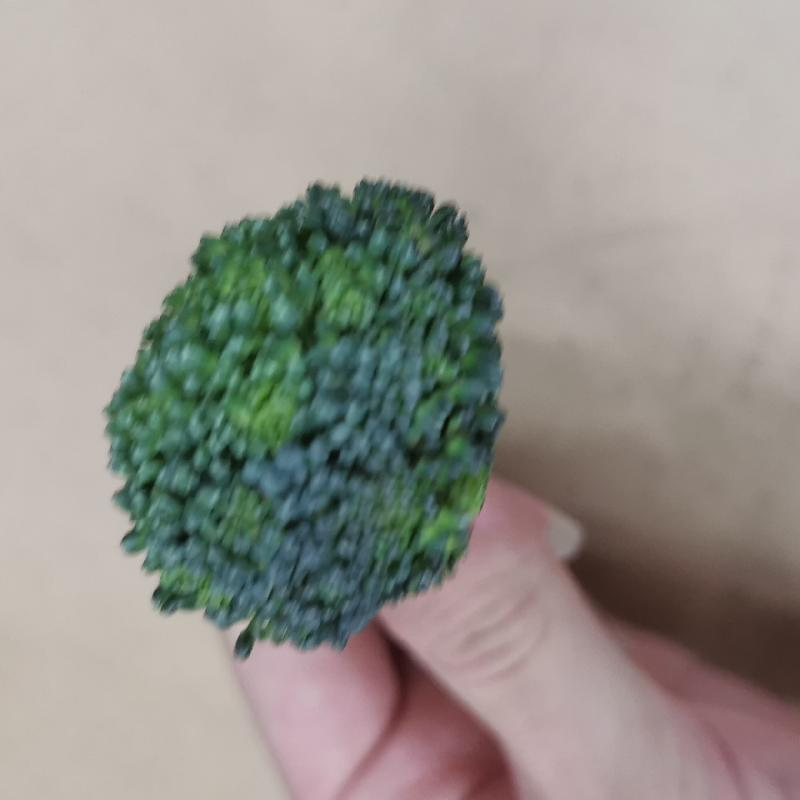broccoli: (85, 175, 530, 668)
